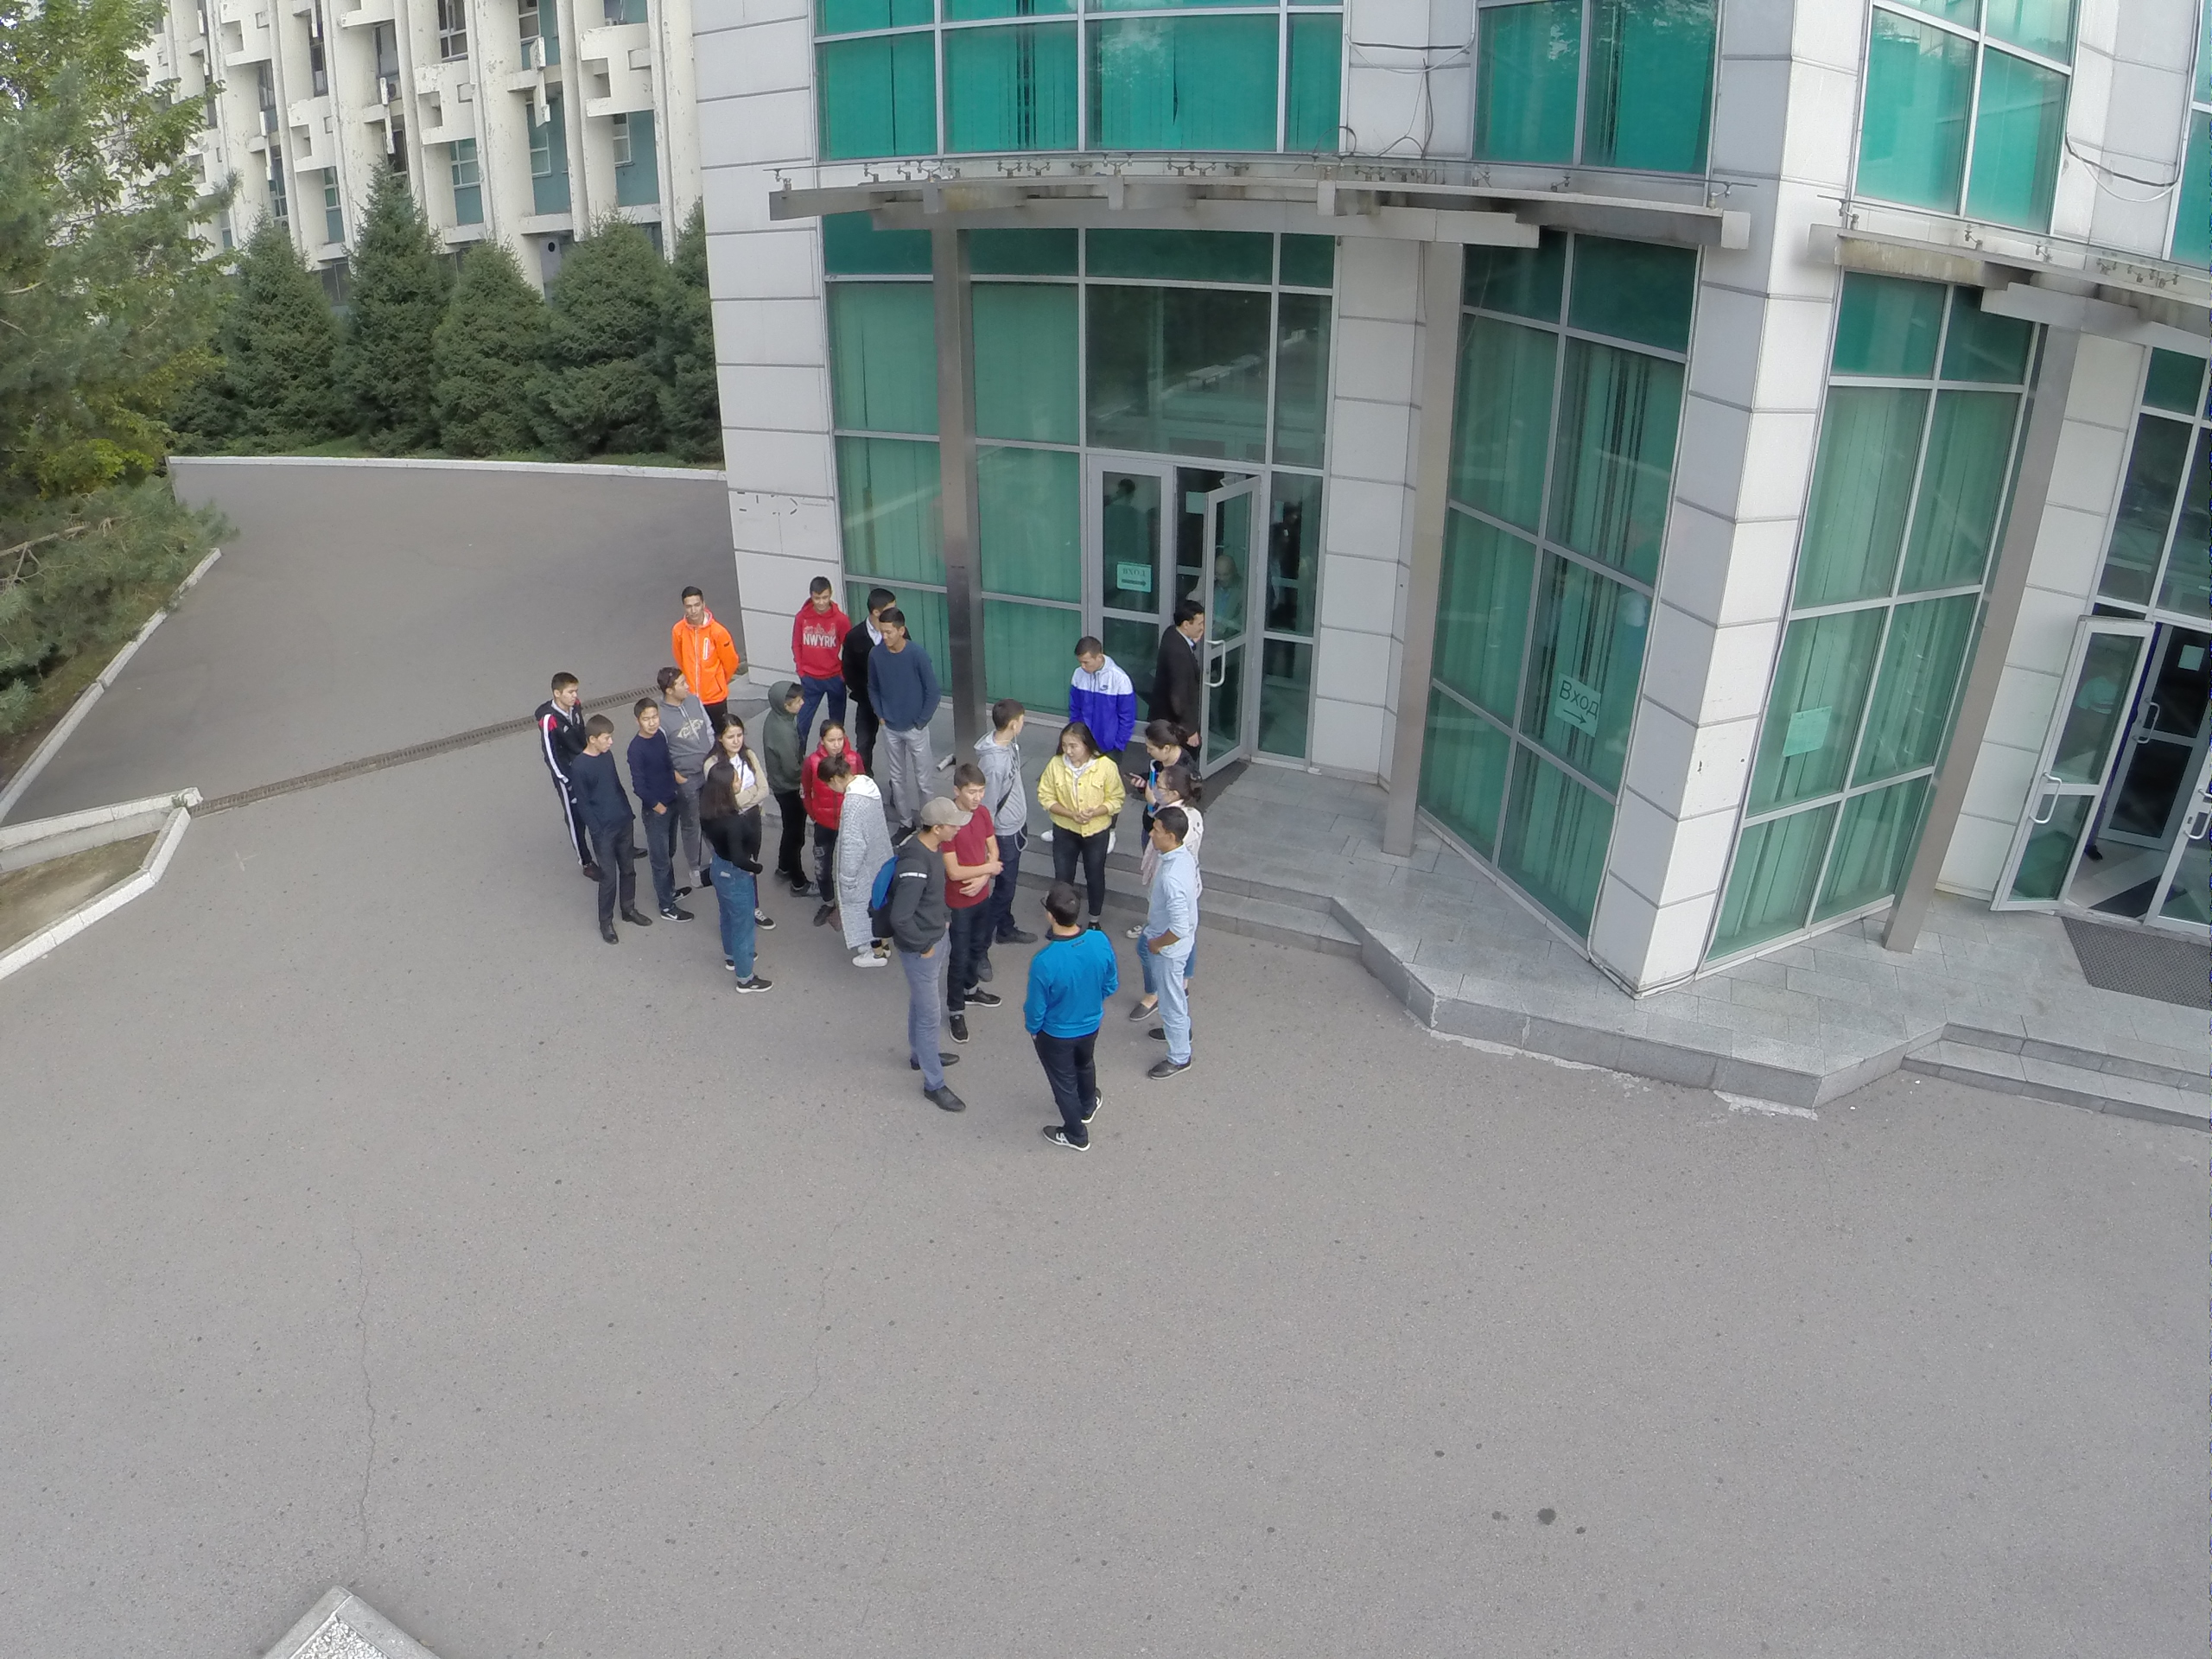person: (999, 870, 1109, 1161), (875, 812, 968, 1118), (693, 760, 772, 998), (530, 664, 607, 887), (819, 762, 898, 976), (1137, 805, 1192, 1086), (974, 696, 1035, 944), (938, 765, 995, 1028), (571, 712, 633, 938), (633, 707, 696, 926), (1035, 721, 1119, 882), (871, 613, 938, 800), (758, 683, 814, 904), (797, 577, 852, 715), (1147, 602, 1211, 715), (671, 584, 730, 702), (1061, 645, 1131, 739), (650, 667, 717, 763), (1135, 721, 1198, 777), (721, 719, 758, 810), (1141, 763, 1203, 805), (819, 727, 867, 774)
